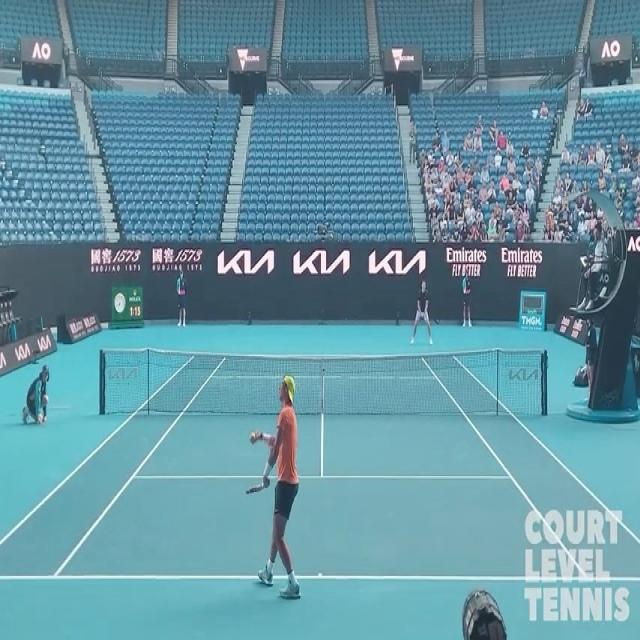serve_ready: (244, 377, 302, 601)
